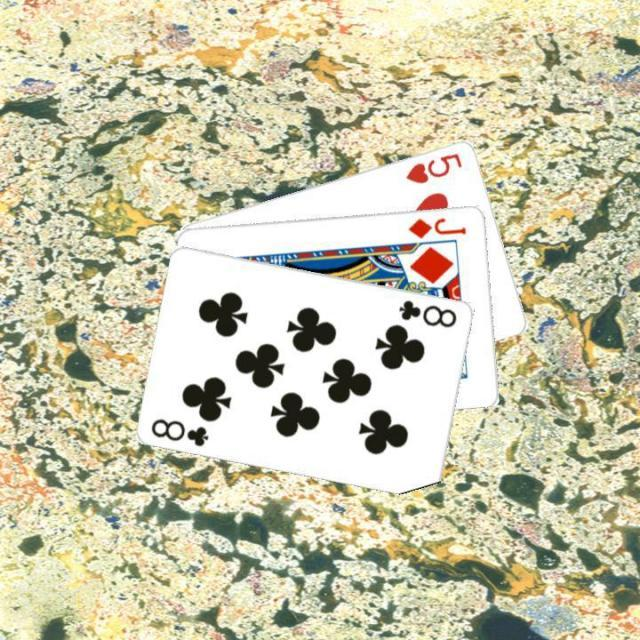5H: (402, 148, 465, 184)
8C: (396, 295, 460, 330), (148, 414, 212, 448)
JD: (404, 213, 468, 240)
